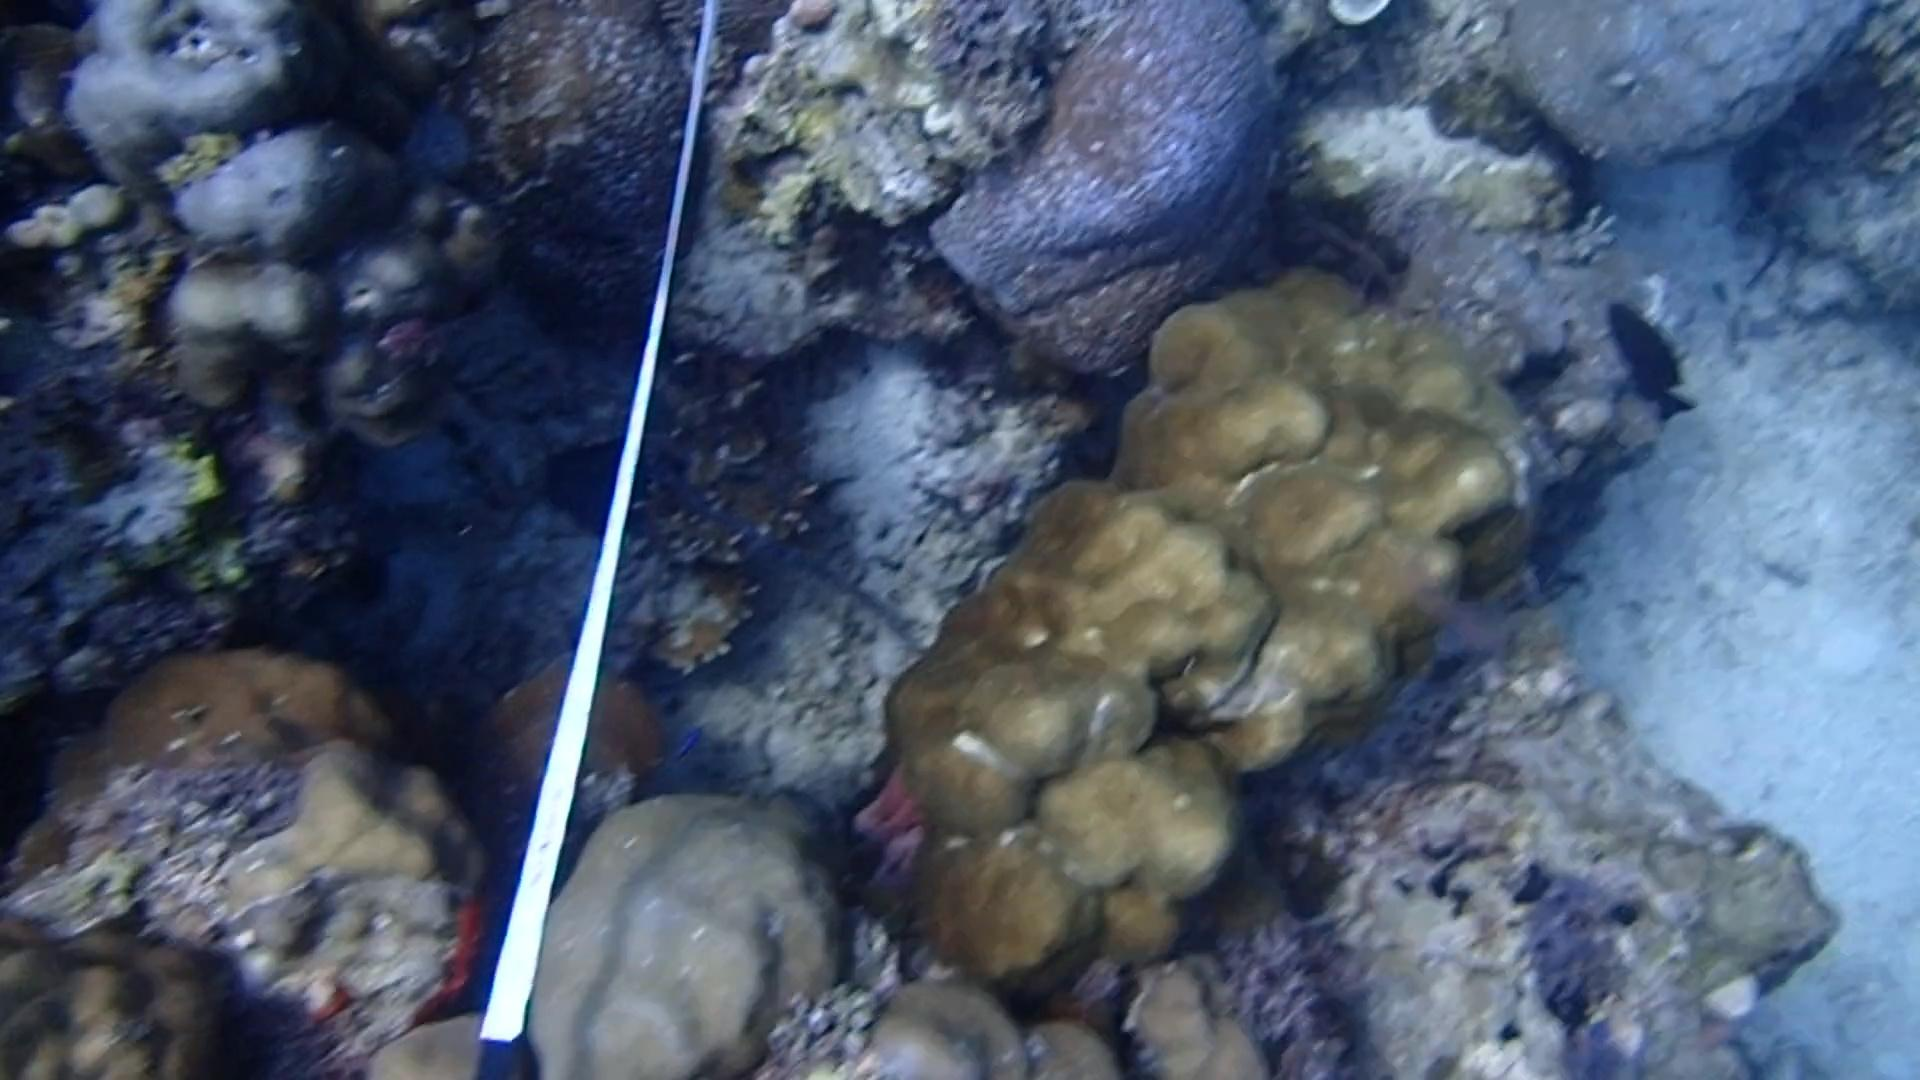Dark Fish: (1601, 286, 1705, 427)
